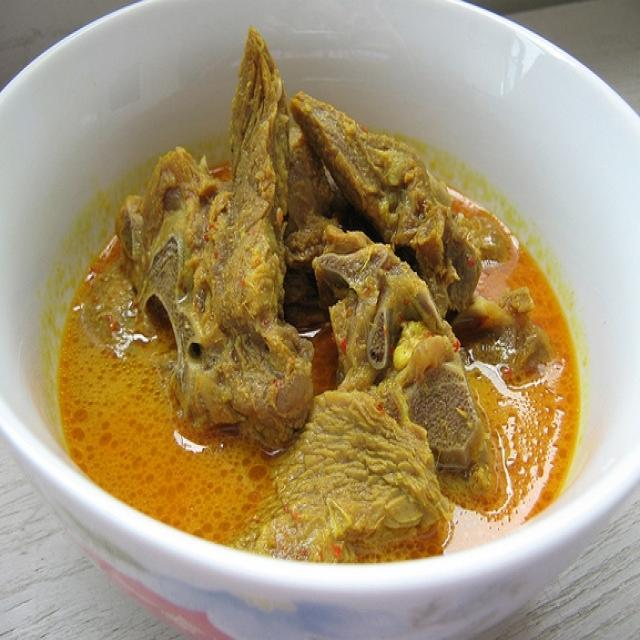熟制海鲜: (33, 18, 608, 610)
